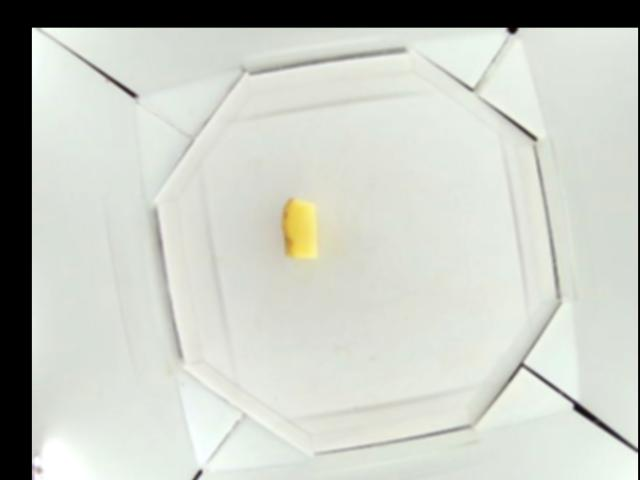Potato: (278, 196, 319, 258)
